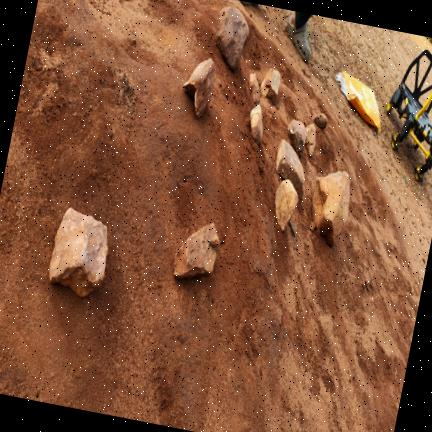Rocks: (49, 208, 108, 297), (312, 172, 350, 246), (174, 224, 219, 278), (216, 7, 249, 71), (184, 59, 215, 117), (276, 140, 304, 204), (275, 180, 298, 231), (288, 120, 306, 157), (260, 69, 280, 101), (250, 105, 262, 145), (305, 125, 316, 157), (249, 74, 260, 104), (314, 114, 327, 129)
